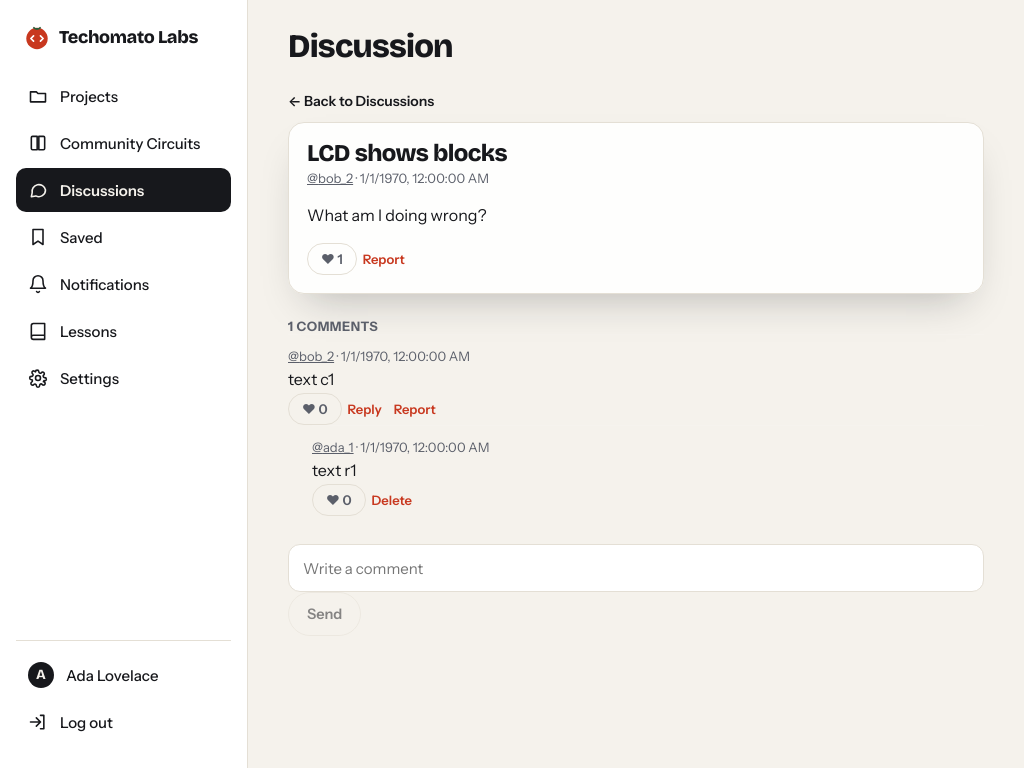
ThreadPage › shows the post with comments and nested replies, and adds a reply under a comment
expect the heading "LCD shows blocks" is shown: met, box [307,139,507,167]
expect the text "text r1" is shown: met, box [312,460,356,480]
Click the button "Reply" at (365, 409), box [342,395,388,423]
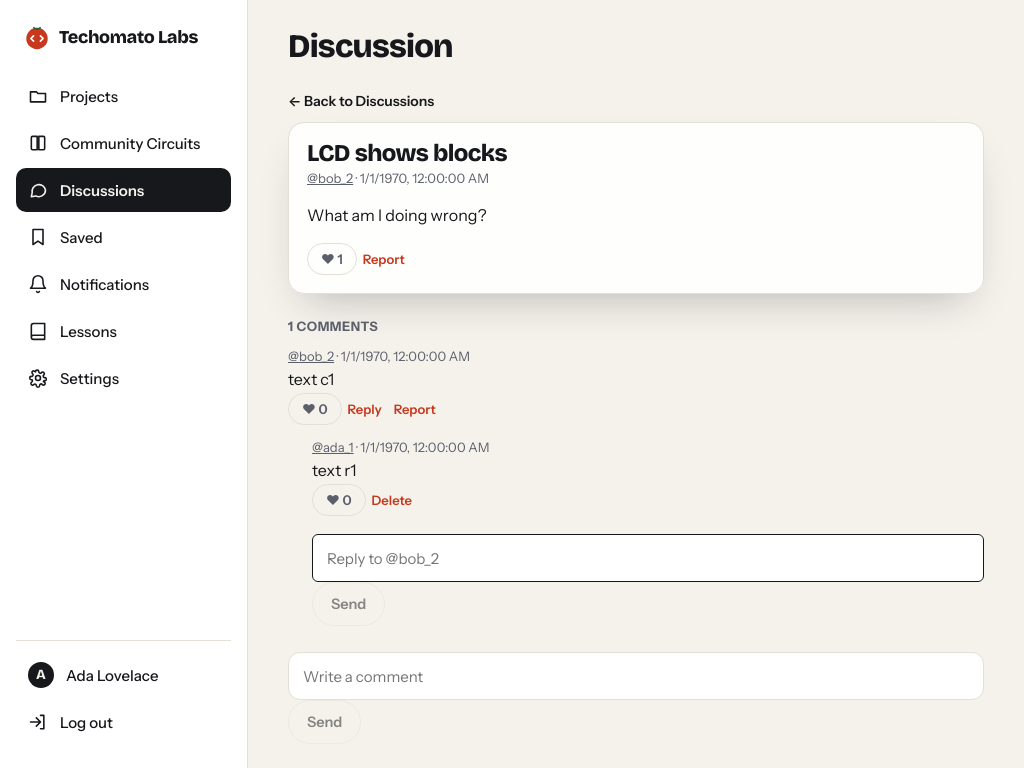
Type "Check the contrast pot" into the field labelled "Reply to @bob_2" at (648, 558), box [312,534,984,582]
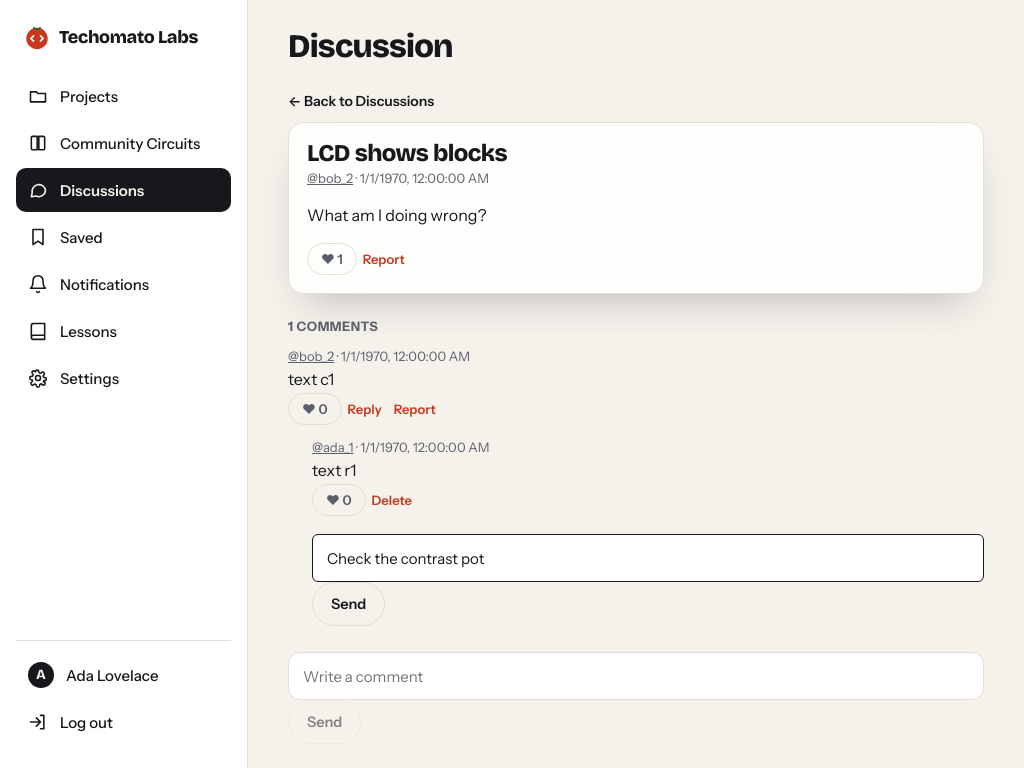
Submit the form named "Reply to @bob_2", box [312,534,984,626]
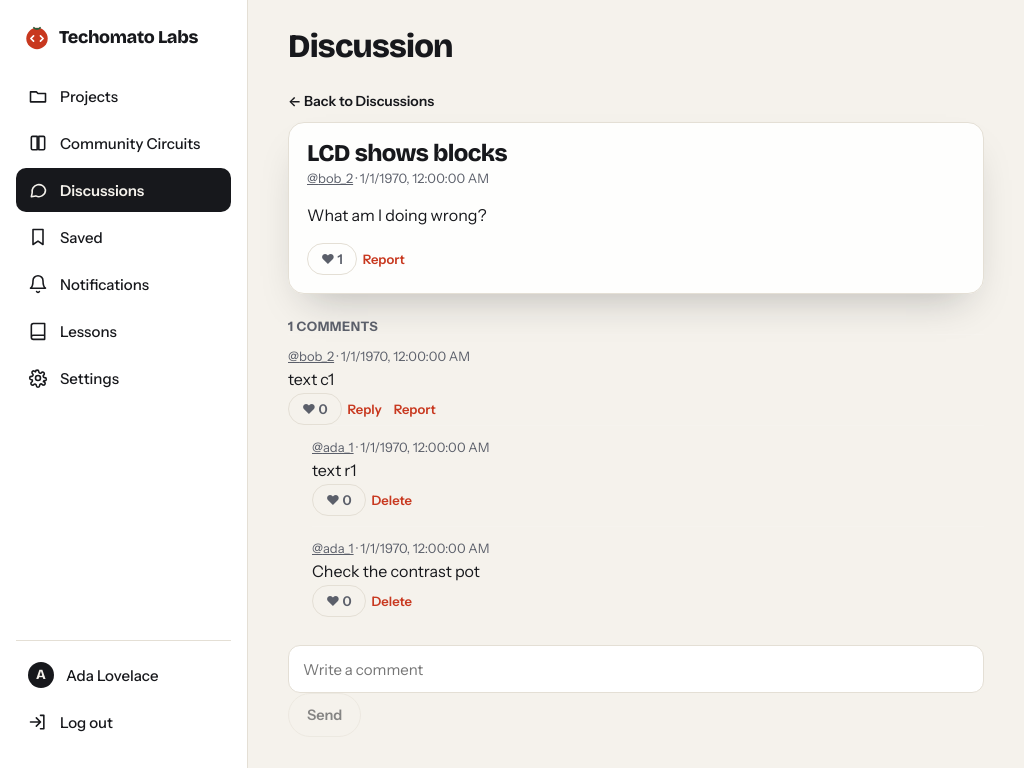
expect the text "Check the contrast pot" is shown: met, box [312,561,480,581]
